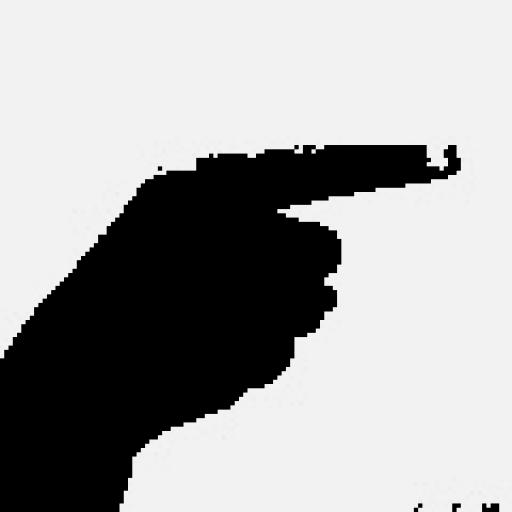index_left: (0, 141, 465, 367)
